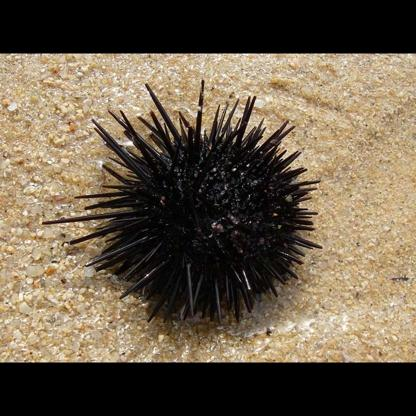urchin: (53, 72, 335, 322)
